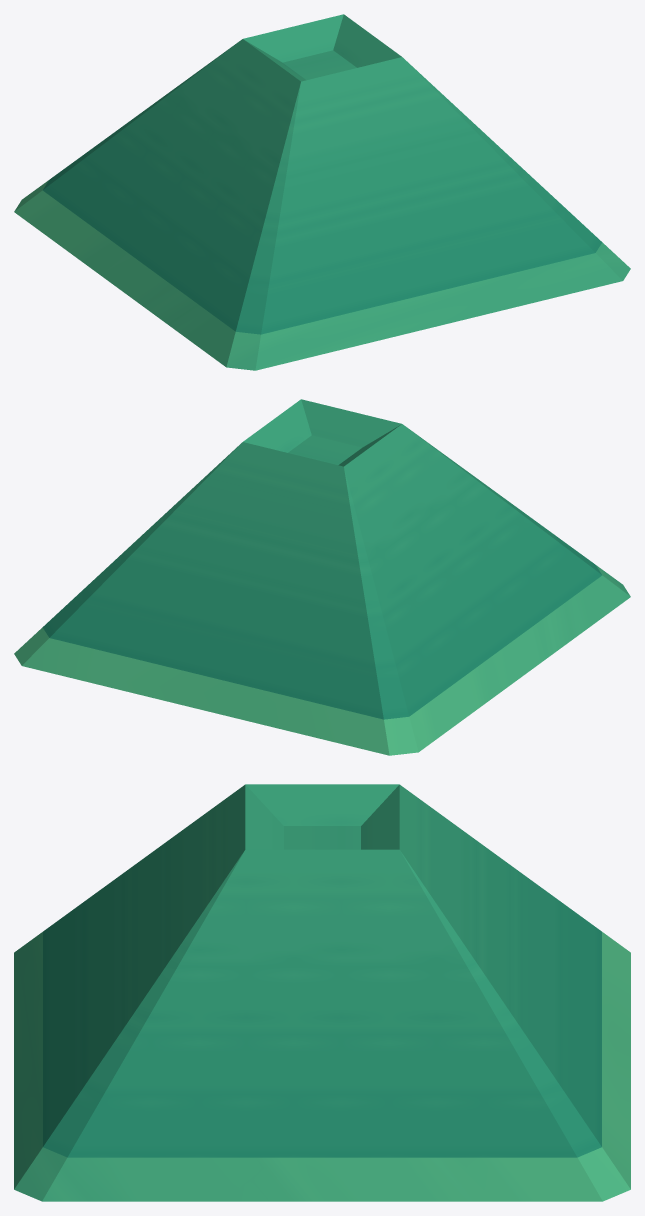
The model's file is roofPoint.fbx.
3 renders of one model, top to bottom at view 1: azimuth 30°, elevation 25°; view 2: azimuth 150°, elevation 25°; view 3: azimuth 270°, elevation 25°, orthographic. The views are drawn at different scales.
Visible parts, largest first — view 1: roofPoint; view 2: roofPoint; view 3: roofPoint.
Boxes of the visible parts, x1,y1,x2,y2 form: roofPoint: (14, 14, 630, 370); roofPoint: (14, 399, 630, 755); roofPoint: (14, 784, 630, 1201).
Size of the model in its own units: 1.1 by 1.1 by 0.5.
